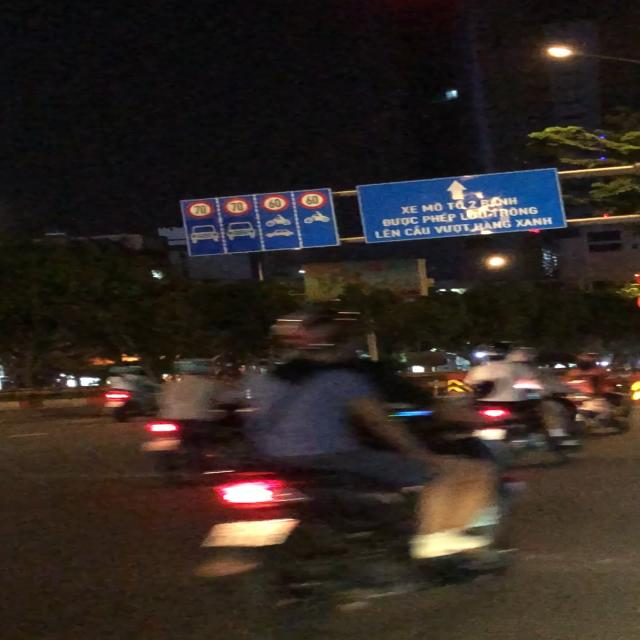Bien bao toc do toi da cho phep: (260, 194, 294, 213), (184, 200, 216, 219), (222, 197, 253, 216), (298, 191, 328, 210)
